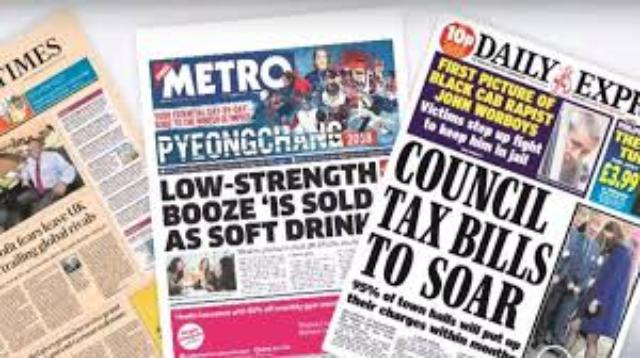cardboard paper: (326, 19, 638, 356), (139, 8, 420, 358), (0, 15, 160, 356)
